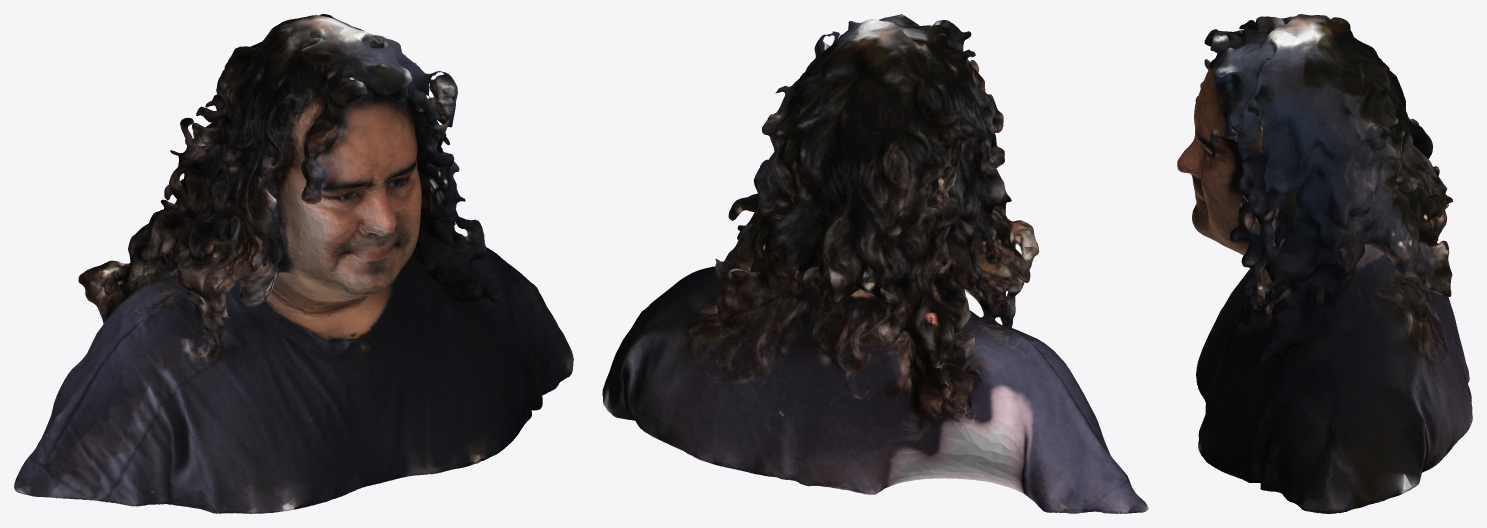
The model's file is montoyamoraga-2026-08.glb.
3 renders of one model, left to right at view 1: azimuth 30°, elevation 25°; view 2: azimuth 150°, elevation 25°; view 3: azimuth 270°, elevation 25°, orthographic. The views are drawn at different scales.
Parts seen in each view (by area): view 1: Node; view 2: Node; view 3: Node.
Boxes of the visible parts, x1,y1,x2,y2 form: Node: (14, 14, 573, 513); Node: (602, 14, 1148, 513); Node: (1177, 14, 1472, 513).
Bounding box in the file's own units: 0.6423 × 0.4697 × 0.3263.
1 material, 1 textured.
